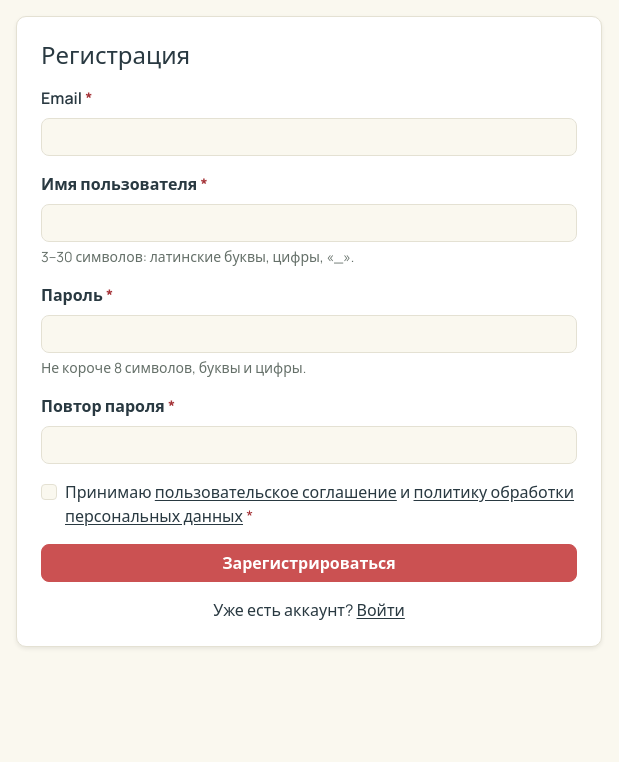
форма регистрации › показывает ошибки под полями до отправки, запрос не уходит
Type "не-почта" into the field labelled "Email *" at (309, 137), box top-left (41, 118), bottom-right (577, 156)
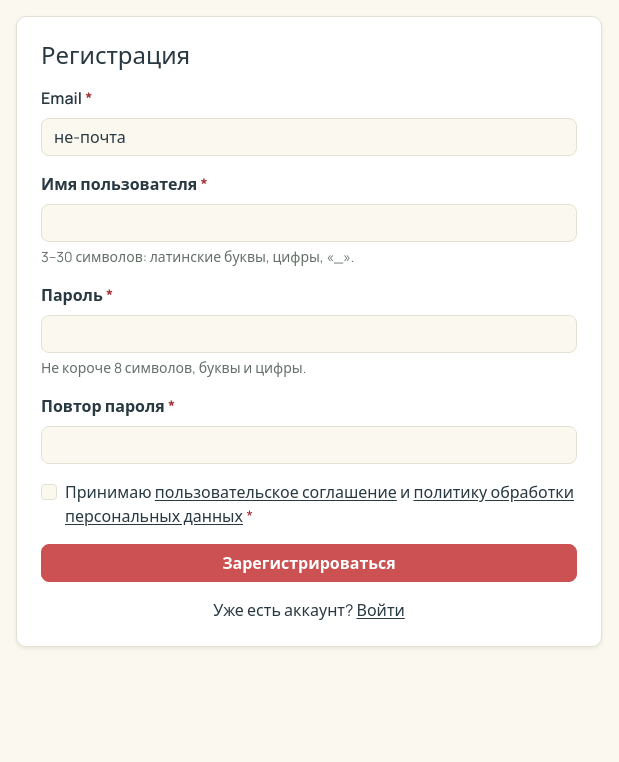
Type "ab" into the field labelled "Имя пользователя *" at (309, 223), box top-left (41, 204), bottom-right (577, 242)
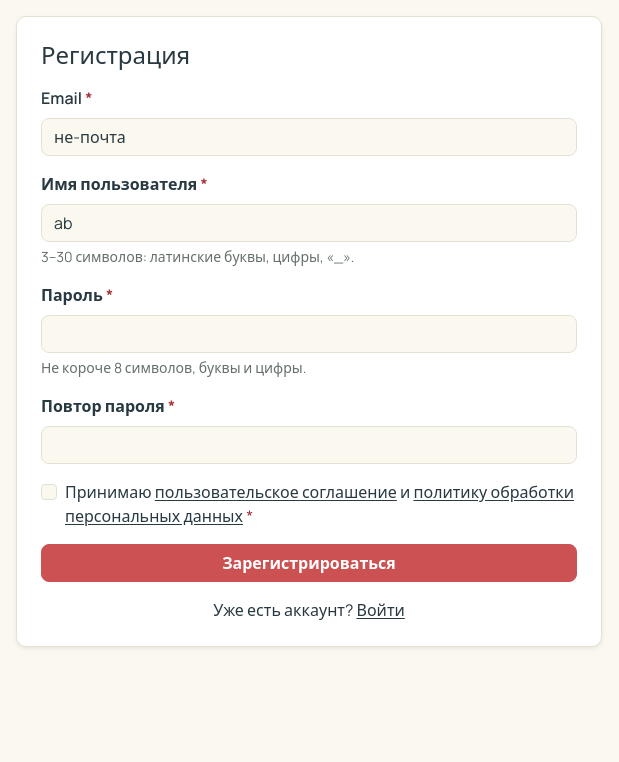
Type "short" into the password field labelled "Пароль *" at (309, 334), box top-left (41, 315), bottom-right (577, 353)
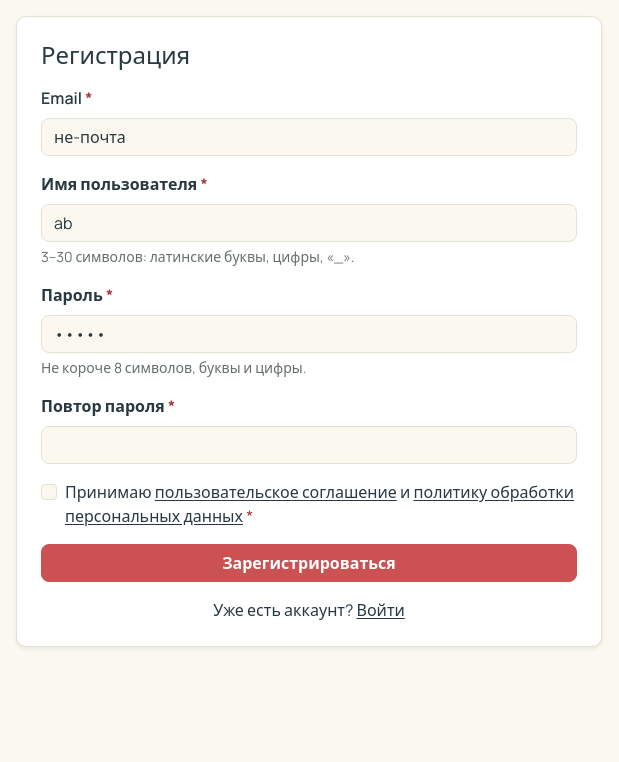
Type "other" into the password field labelled "Повтор пароля *" at (309, 445), box top-left (41, 426), bottom-right (577, 464)
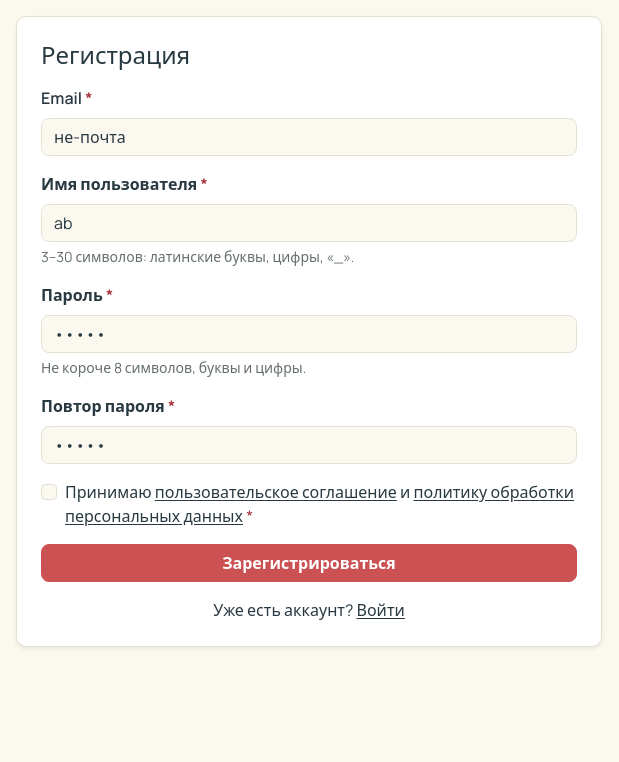
Click the button "Зарегистрироваться" at (309, 563), box top-left (41, 544), bottom-right (577, 582)
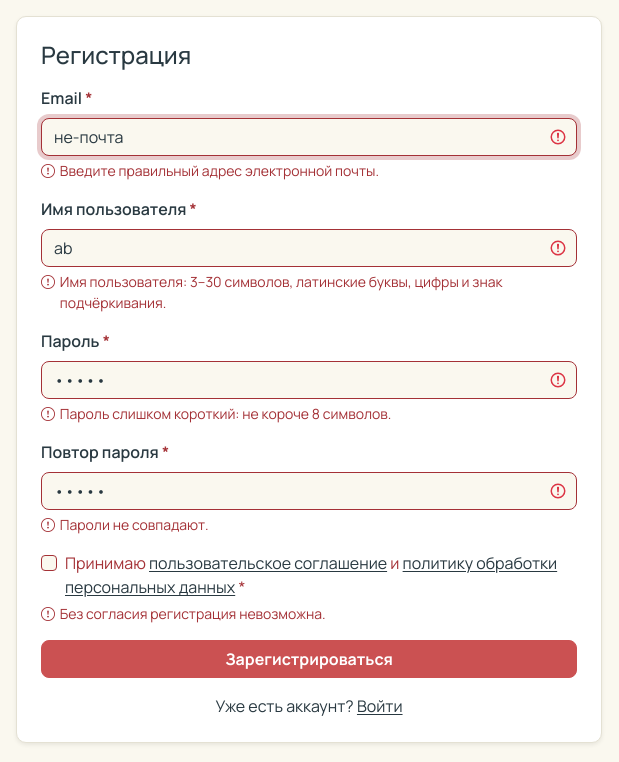
Expected: the text "Введите правильный адрес электронной почты." is shown, top-left (41, 160), bottom-right (379, 181)
Expected: the text "3–30 символов, латинские буквы" is shown, top-left (60, 272), bottom-right (502, 312)
Expected: the text "Пароль слишком короткий: не короче 8 символов." is shown, top-left (41, 403), bottom-right (391, 424)
